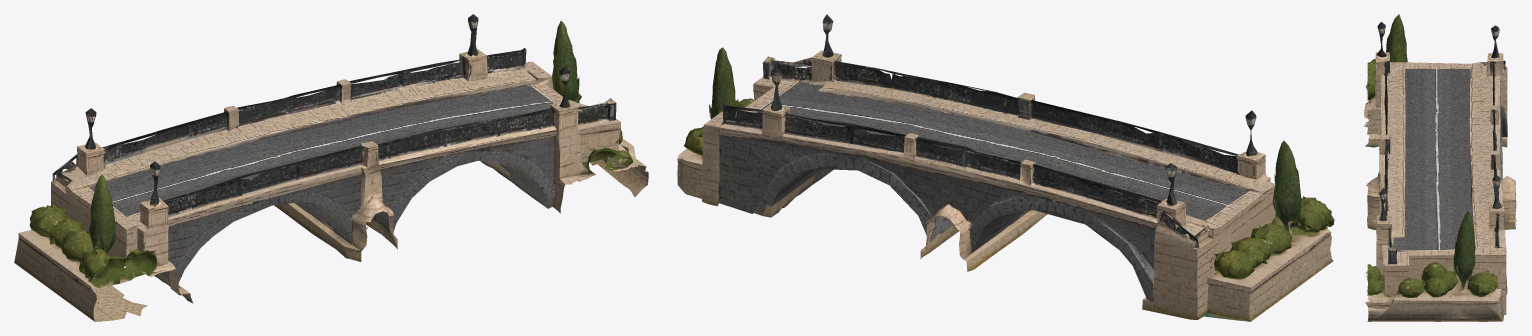
Rendered from m_tb_metekhi.glb.
The picture shows the model from 3 angles, left to right: view 1: azimuth 30°, elevation 25°; view 2: azimuth 150°, elevation 25°; view 3: azimuth 270°, elevation 25°; orthographic projection. The views are drawn at different scales.
Bounding box in the file's own units: 0.9957 × 0.2452 × 0.2961.
Materials: 1 (1 with a texture image).
